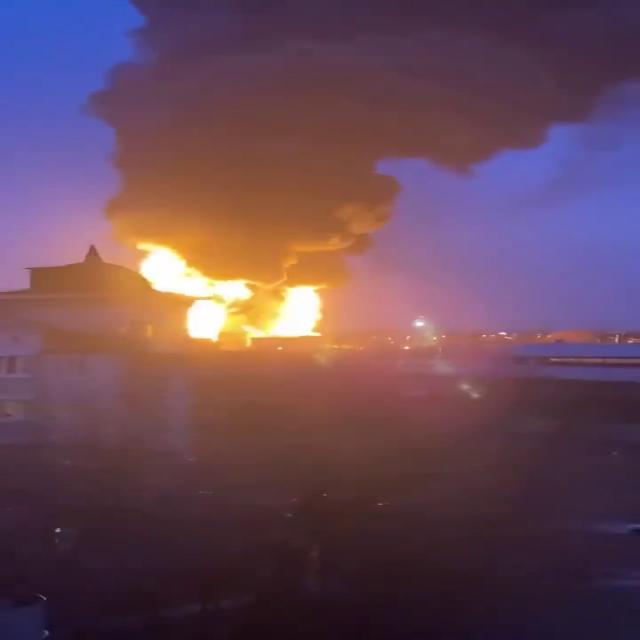Fire: (135, 243, 332, 347)
Smoke: (92, 0, 623, 251)
